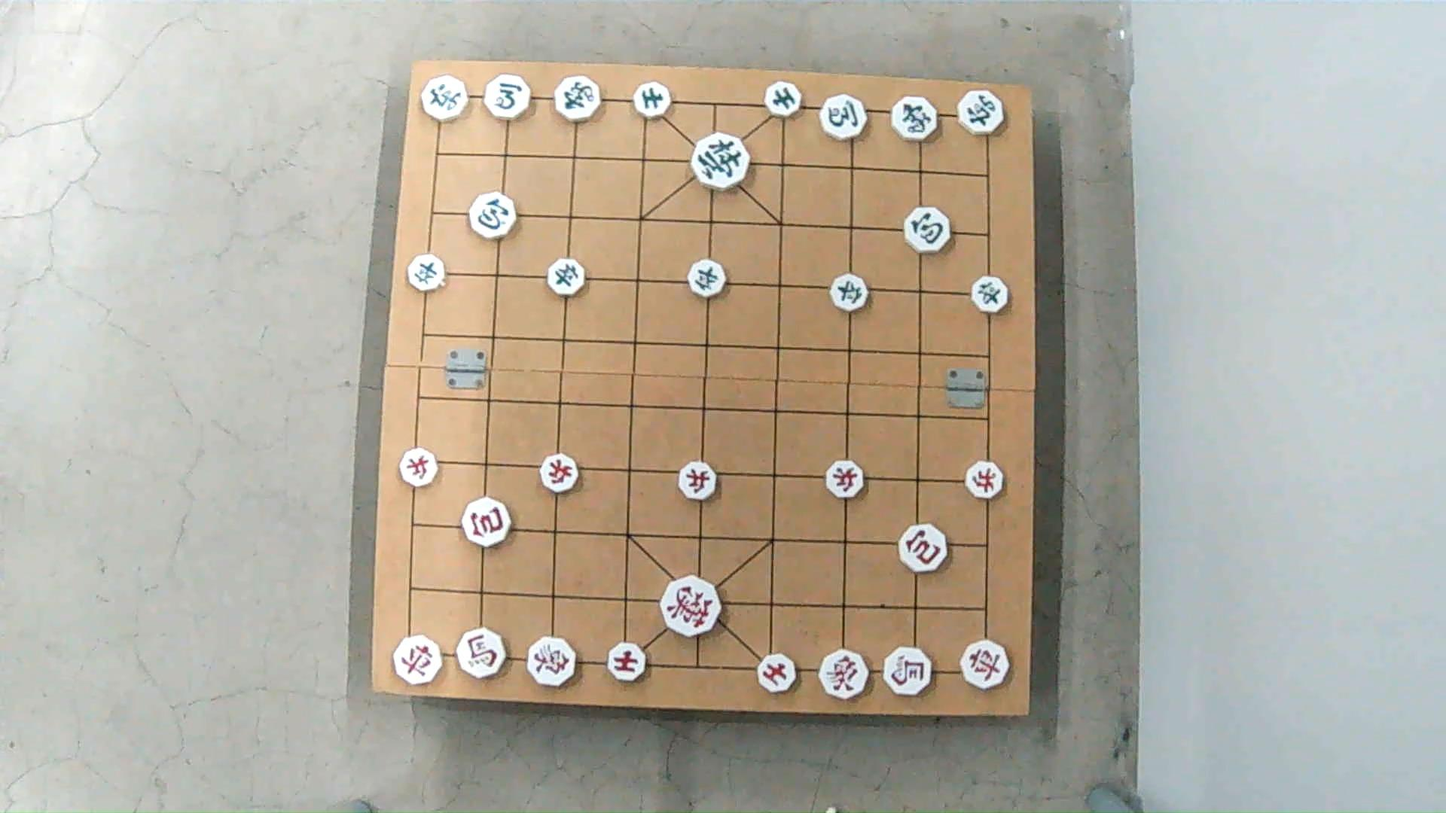cha_green: (419, 76, 471, 121), (956, 90, 1002, 139)
cha_red: (959, 638, 1011, 690), (395, 637, 444, 684)
jol_green: (689, 260, 729, 297), (405, 255, 445, 291), (968, 277, 1009, 312), (547, 260, 587, 295), (828, 275, 868, 310)
jol_red: (398, 449, 439, 486), (680, 464, 720, 501), (538, 455, 579, 491), (828, 463, 868, 499), (962, 464, 1002, 500)
ma_green: (481, 76, 531, 119), (820, 96, 869, 139)
ma_red: (882, 650, 933, 698), (456, 631, 506, 679)
po_green: (470, 195, 518, 239), (901, 208, 950, 251)
po_red: (898, 527, 948, 574), (462, 501, 512, 547)
sa_green: (631, 84, 672, 117), (765, 84, 804, 117)
sa_red: (756, 654, 795, 693), (609, 644, 648, 682)
sang_green: (893, 96, 939, 143), (554, 77, 603, 120)
sang_red: (525, 638, 584, 687), (817, 652, 869, 698)
wang_green: (689, 136, 751, 190)
wang_red: (657, 577, 720, 634)
